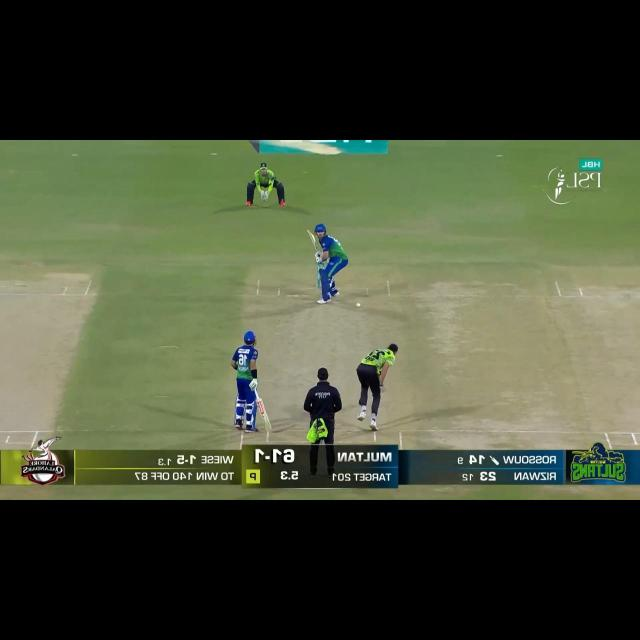bat: (256, 395, 271, 430), (306, 229, 319, 252)
toe: (262, 418, 271, 431), (306, 229, 313, 238)
